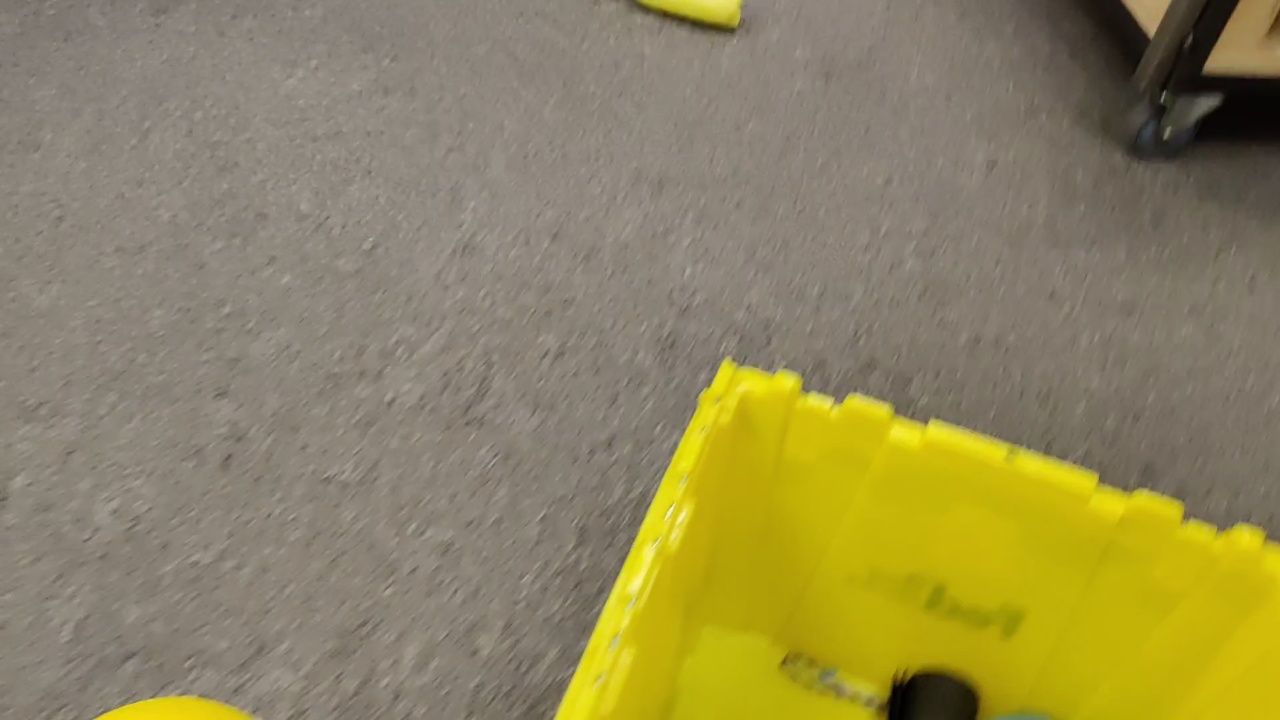Ball: (92, 695, 264, 720)
